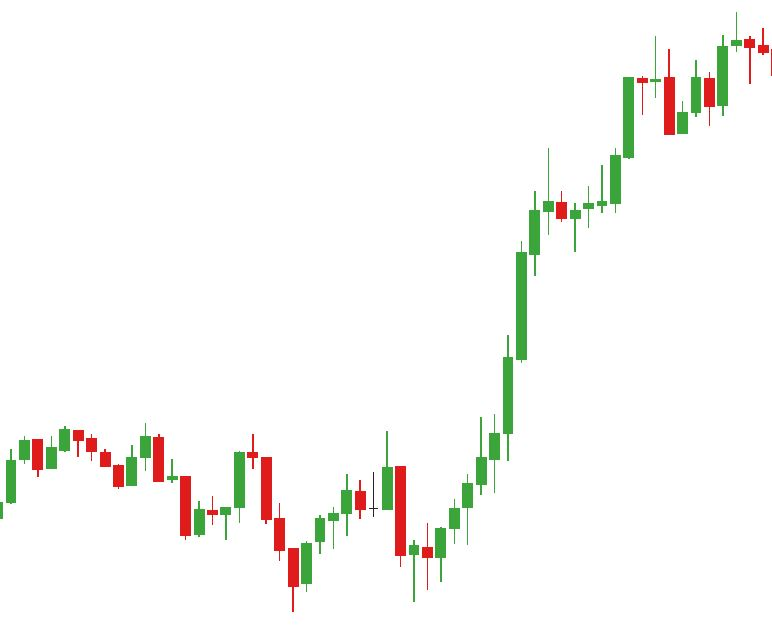buy: (178, 469, 329, 614)
